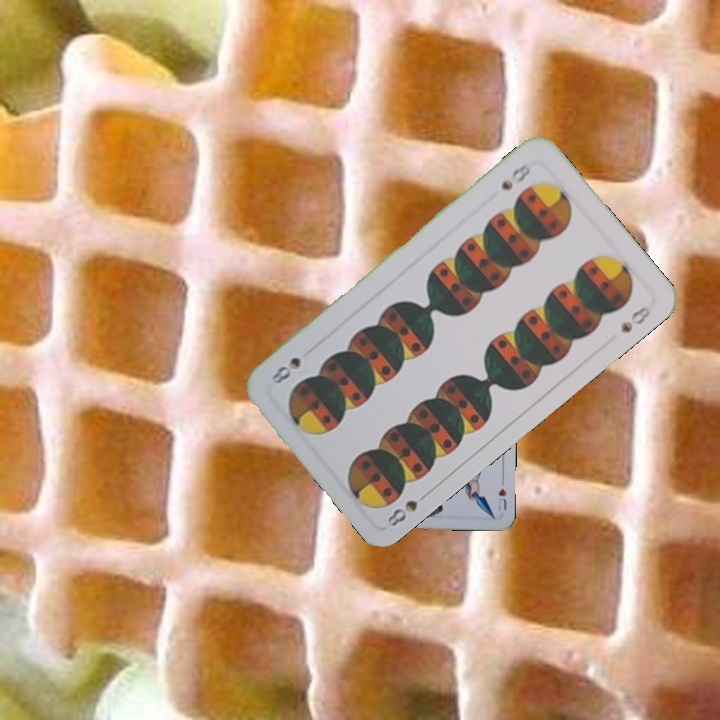HU: (494, 474, 509, 514)
S8: (382, 486, 434, 530), (497, 159, 534, 193)
